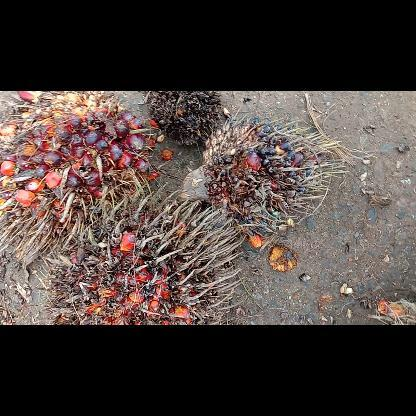TBS abnormal: (179, 115, 351, 238), (143, 92, 223, 146)
TBS masak: (0, 92, 160, 268)
Terlalu masak: (45, 192, 246, 324)
